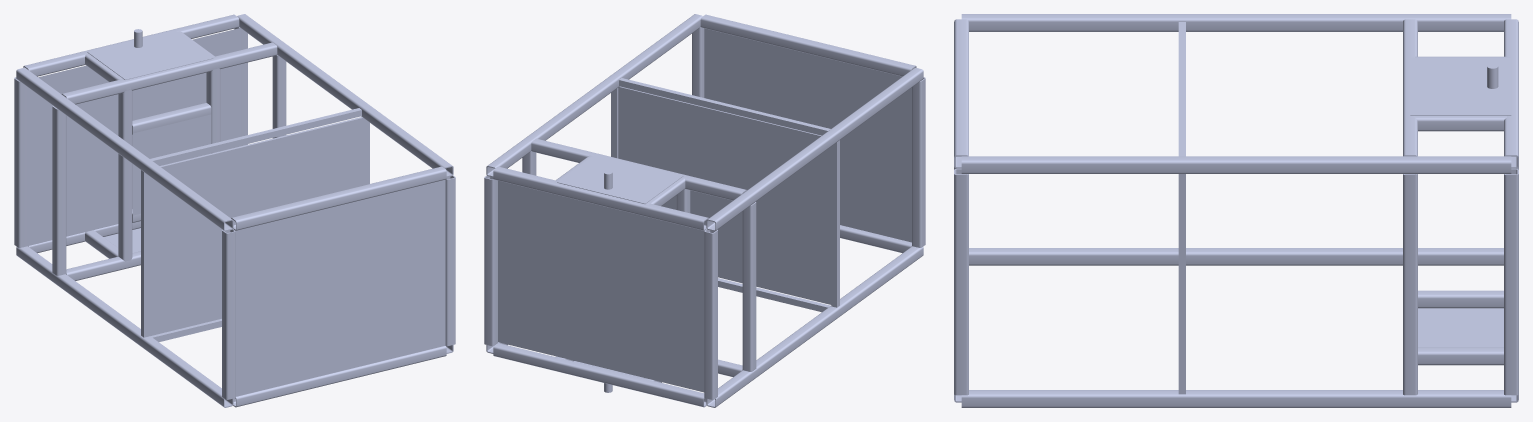
Rendered from Chassis_1.dae.
3 renders of one model, left to right at view 1: azimuth 30°, elevation 25°; view 2: azimuth 150°, elevation 25°; view 3: azimuth 270°, elevation 25°, orthographic. The views are drawn at different scales.
Parts seen in each view (by area): view 1: node0; view 2: node0; view 3: node0.
Part boxes in pixels (x1,y1,x2,y2): node0: [14, 14, 455, 407]; node0: [484, 14, 925, 407]; node0: [954, 14, 1518, 407].
Bounding box in the file's own units: 0.47 × 0.427 × 0.755.
